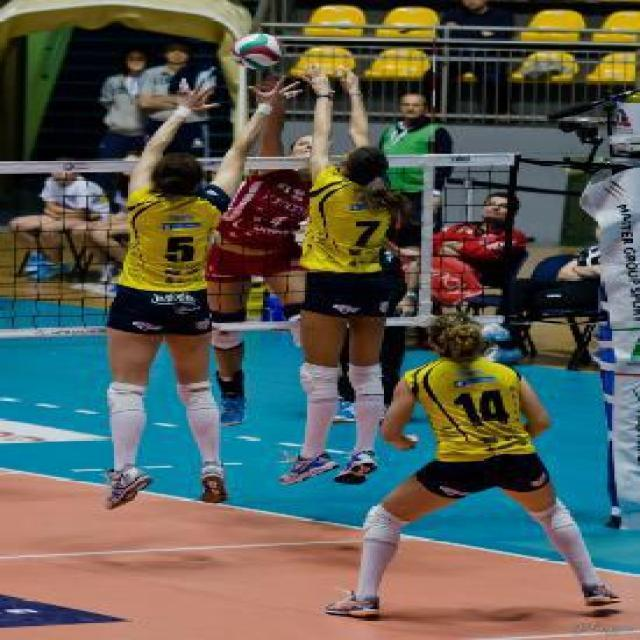volleyball: (237, 32, 284, 70)
